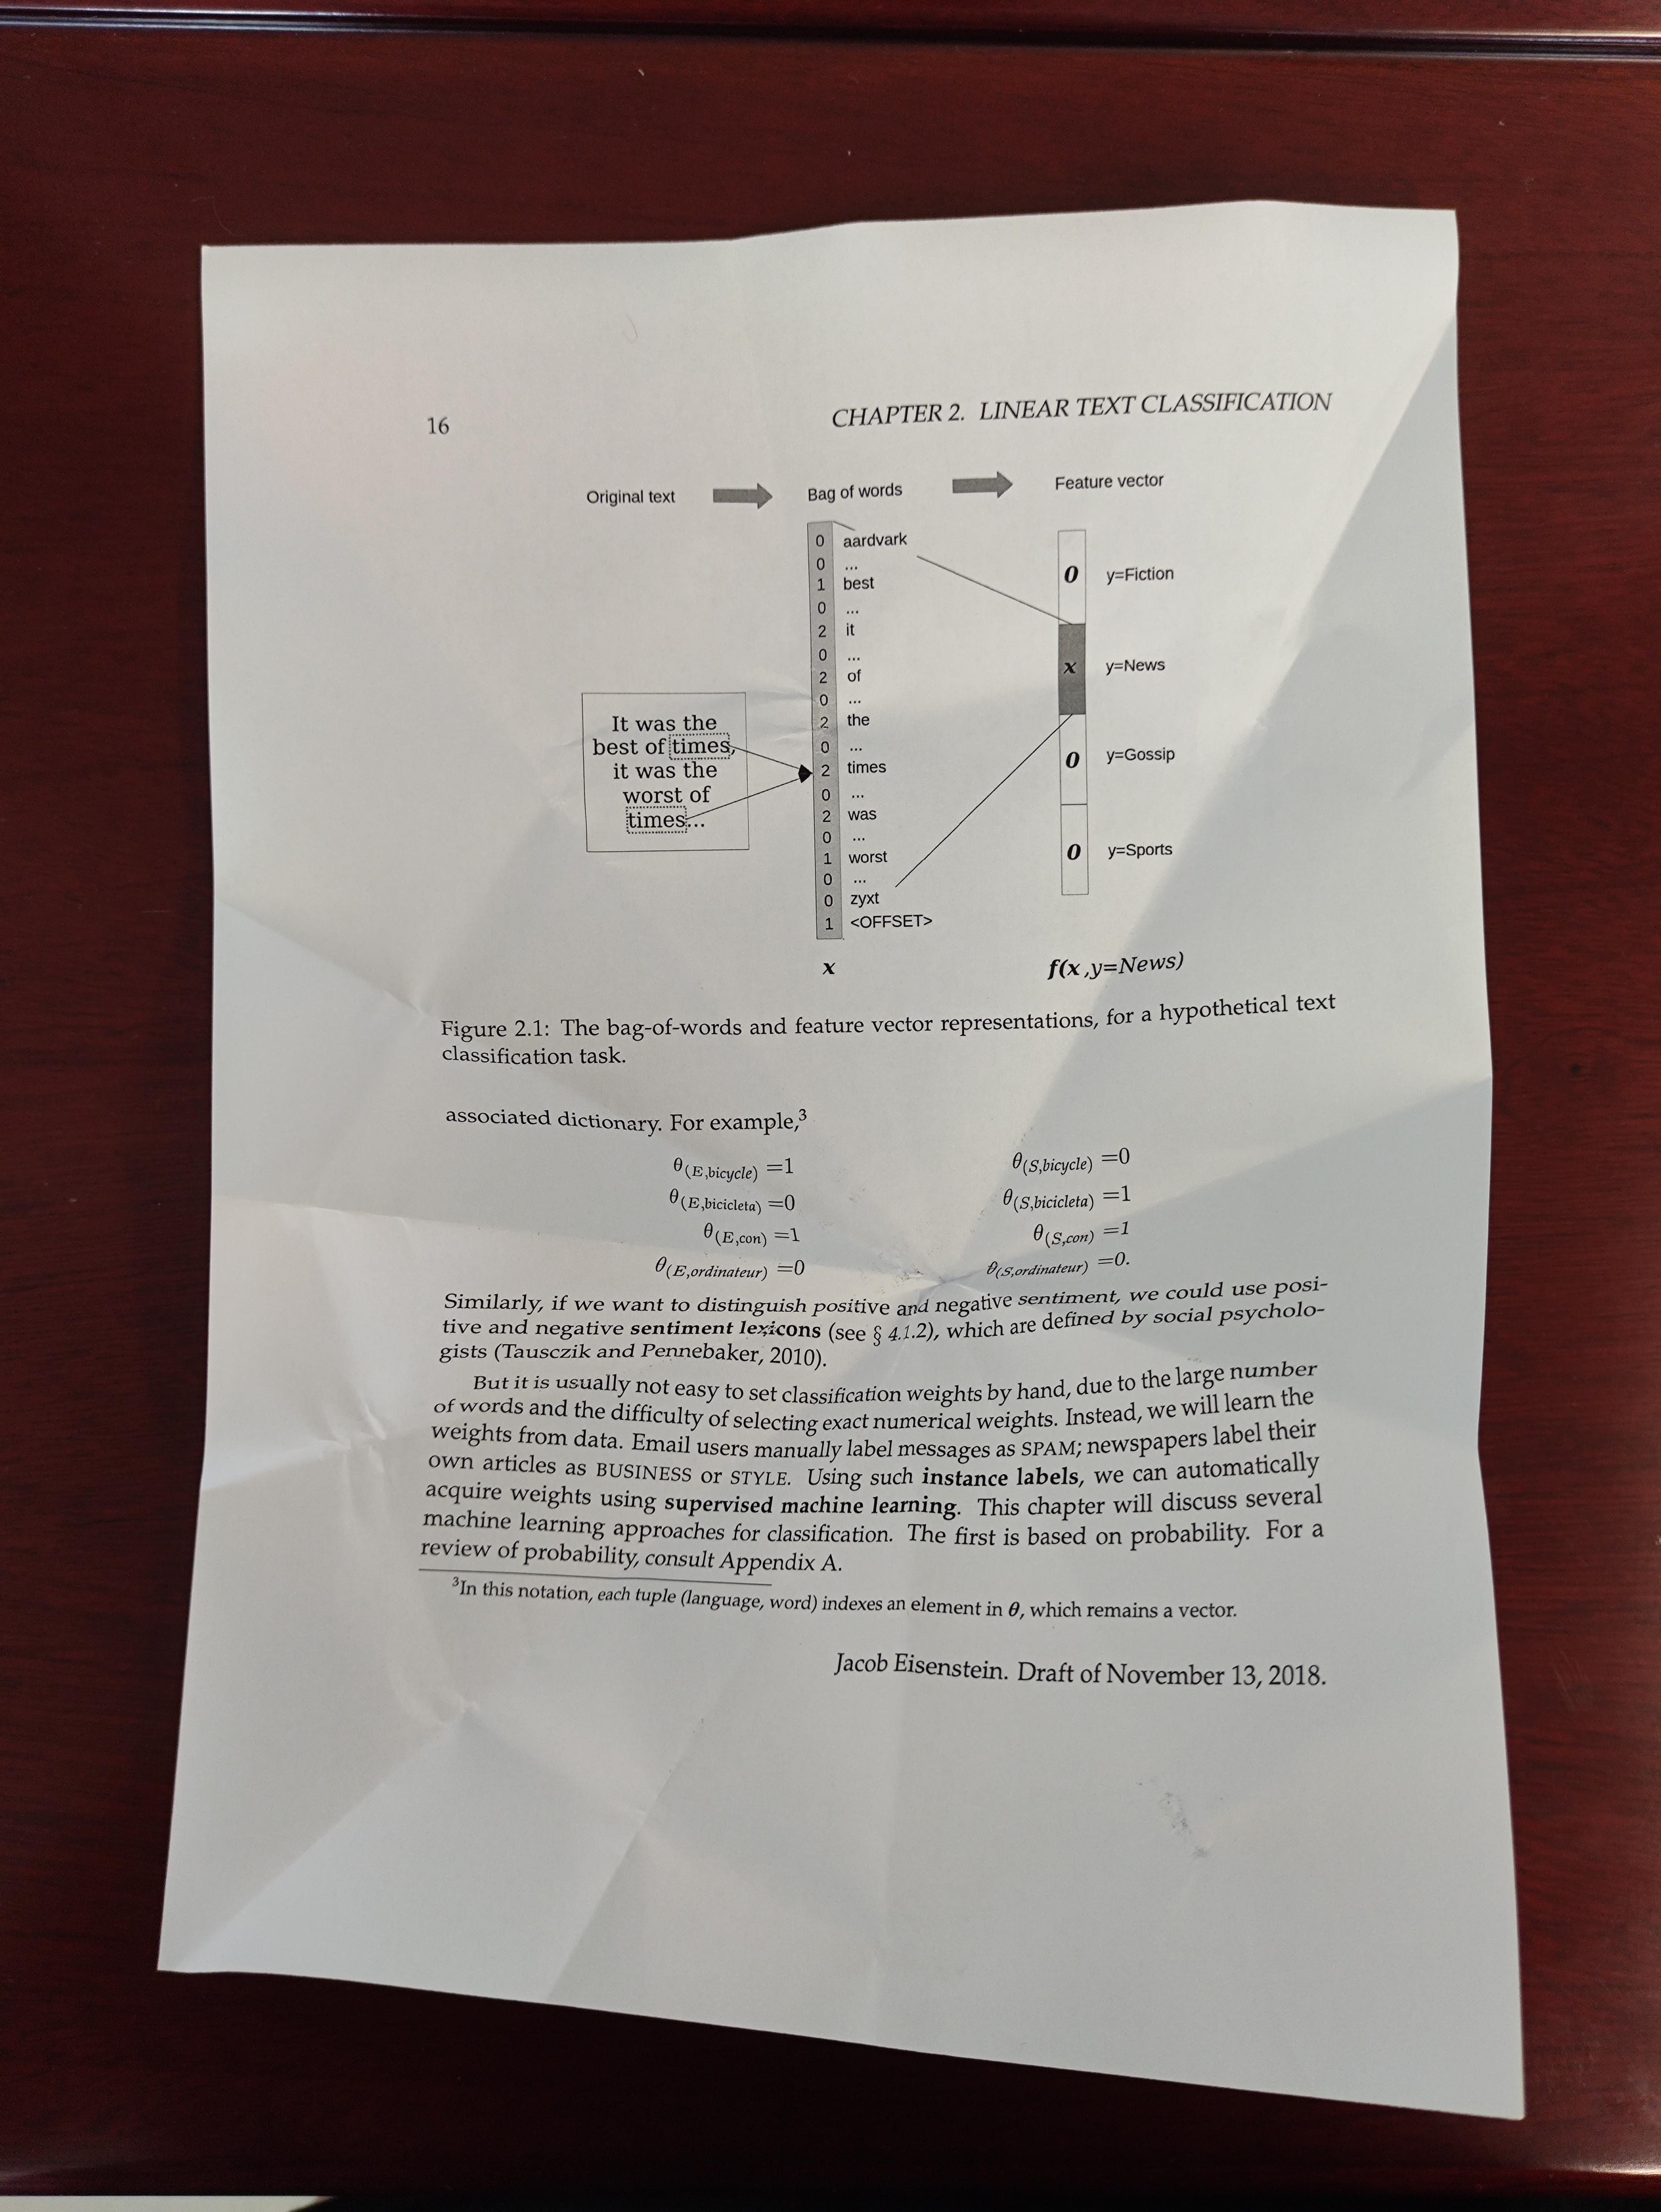paper: (110, 120, 1661, 2116)
